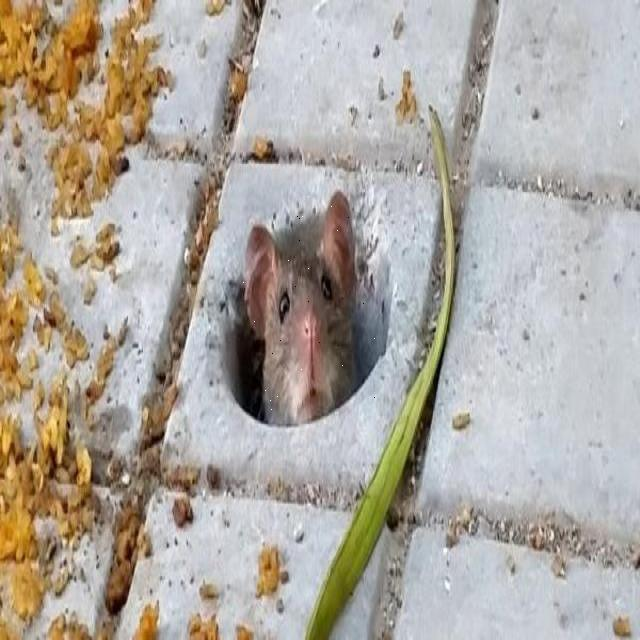rat: (238, 192, 379, 416)
